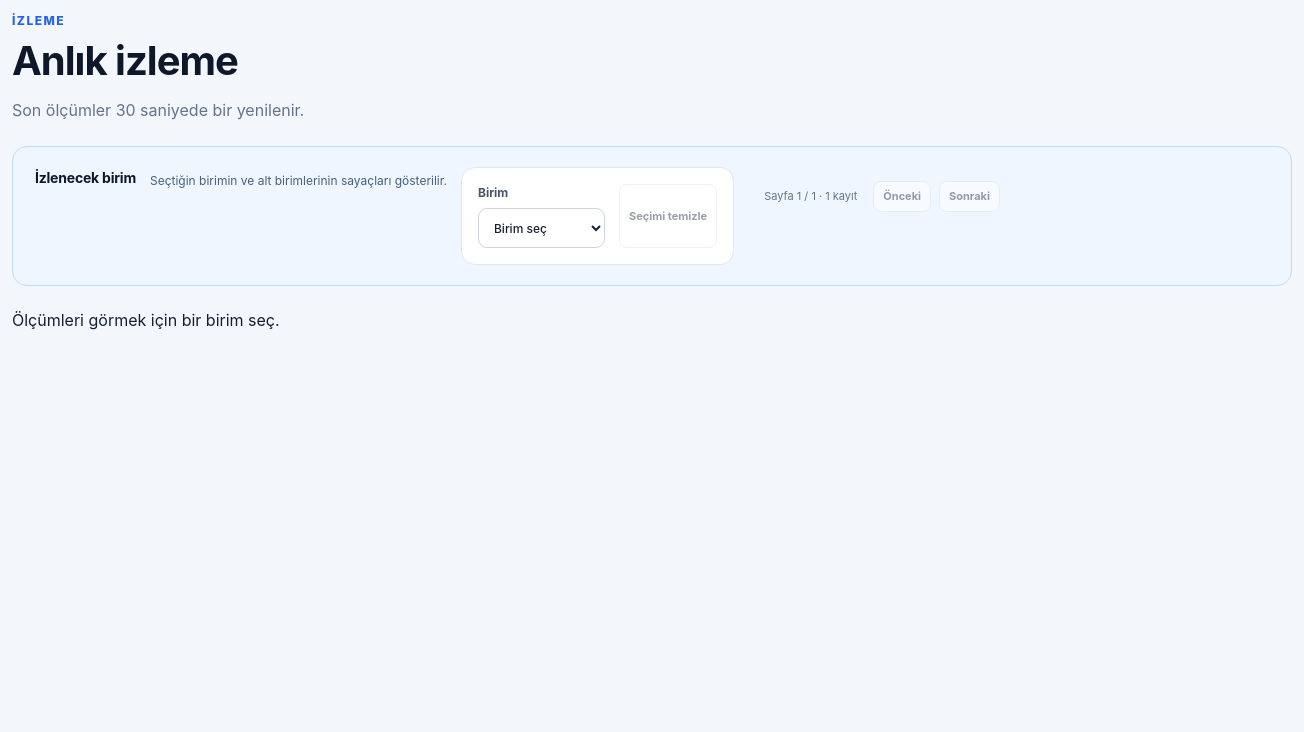
Test: F3-T6 anlık izleme › 30 saniyede yeniden alır; yeni ölçüm gelmezse yaş ilerler ve rozet amber olur
Select "TM-1 · Merkez" in the dropdown at {"x": 542, "y": 228}, box [478,208,605,248]
Wait 30010 ms
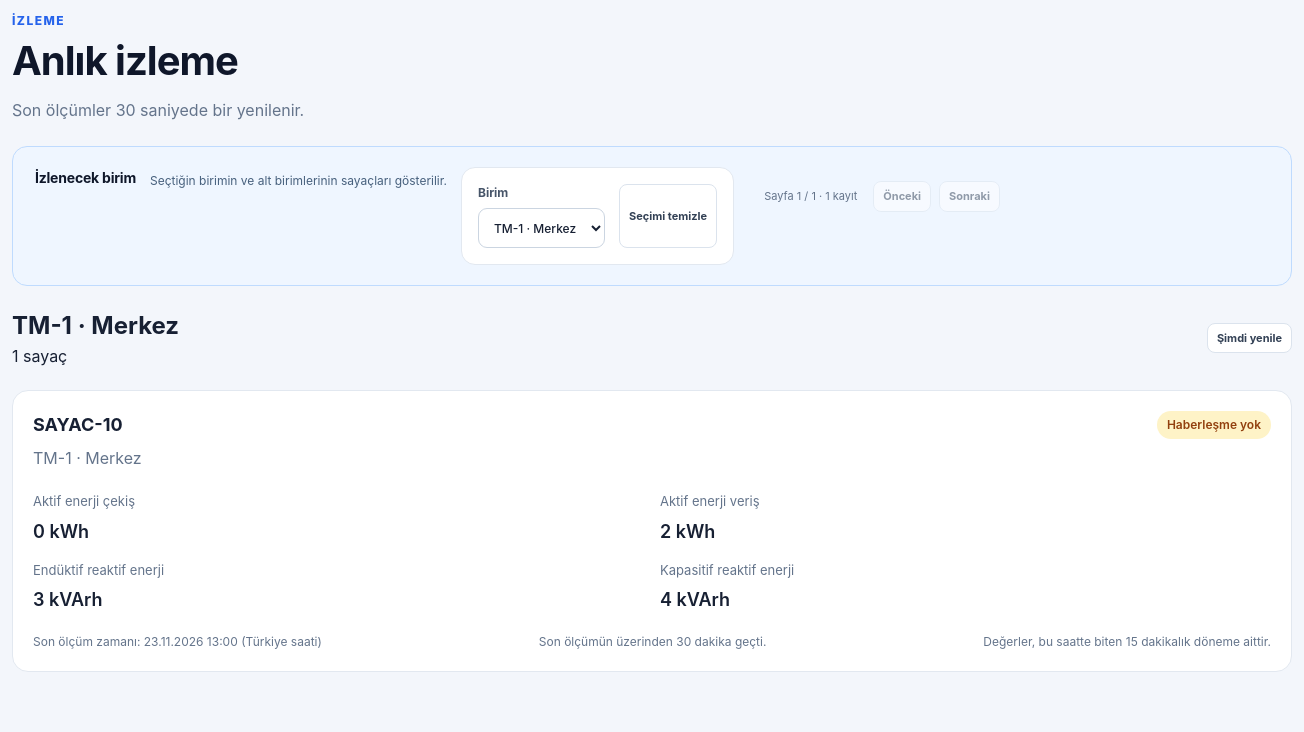
Now the text "Güncel" is shown, box [1157,411,1271,439]
Now the text "Son ölçümün üzerinden 30 dakika geçti." is shown, box [539,633,766,651]
Now the text "23.11.2026 13:00" is shown, box [144,634,238,649]
